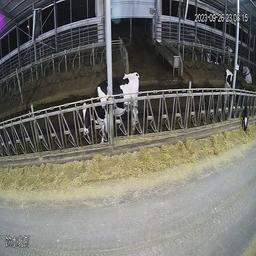cow: (80, 72, 136, 147), (223, 66, 249, 137), (205, 49, 220, 68), (241, 61, 252, 84)
